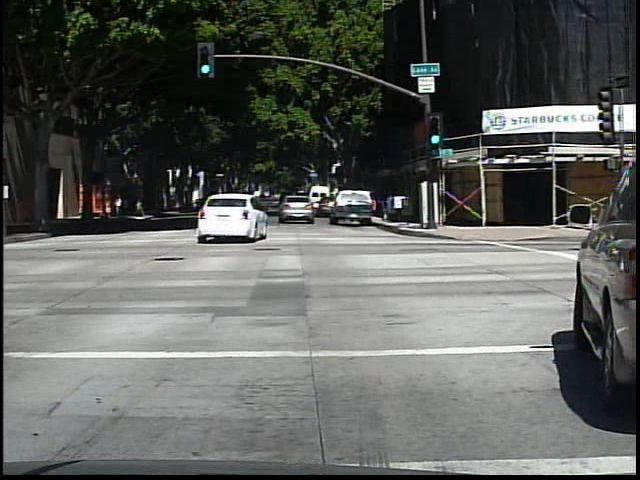person: (112, 193, 128, 222)
